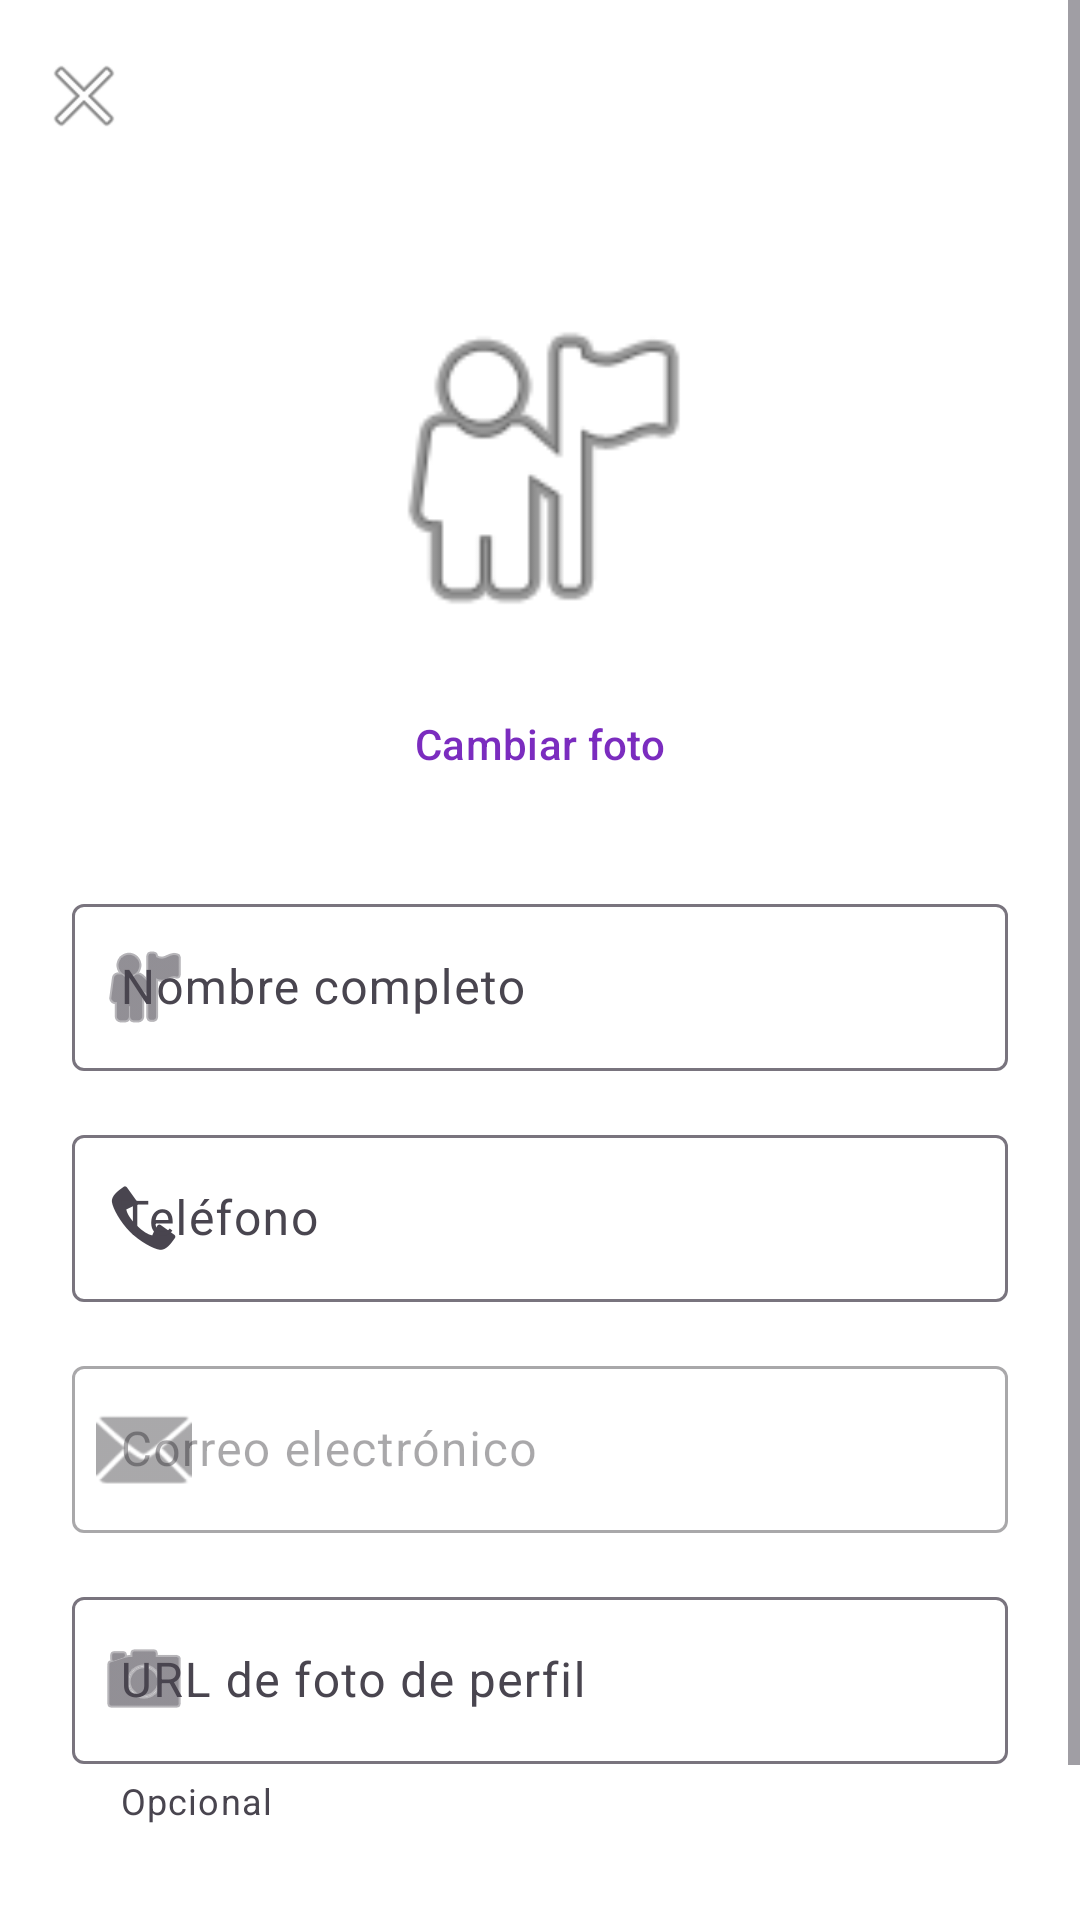

Where icons sit on this 1080x1920 app screen, as (x1, y1, x2, y2):
Foto de perfil: (408, 333, 679, 603)
